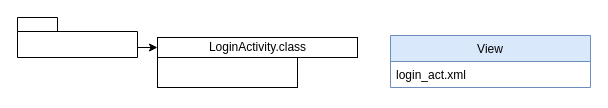
The diagram is 608 pixels wide and 108 high, and some of its shapes have lost their labels. The shapes that lost their labels are listed below. From the top down, each one's centre as x and y in pixels, then its label:
At pixel 77 37: "login".
At pixel 227 72: "«interface» LoginNavigator".
